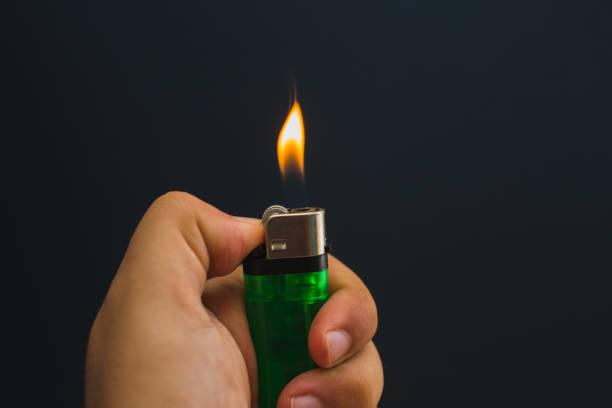Fire: (270, 87, 312, 202)
